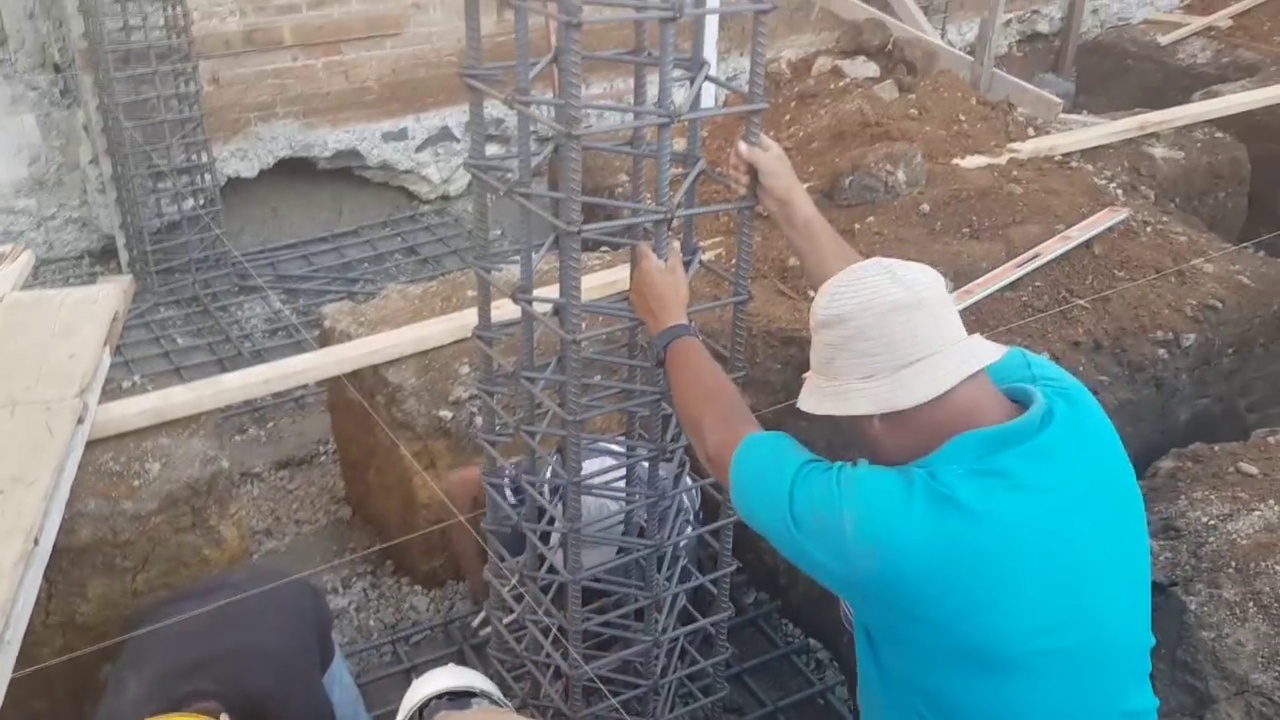helmet: (399, 672, 509, 720)
helmet-off: (798, 270, 1045, 458), (544, 453, 640, 581)
person: (631, 127, 1164, 720), (451, 434, 705, 662), (88, 576, 364, 714)
